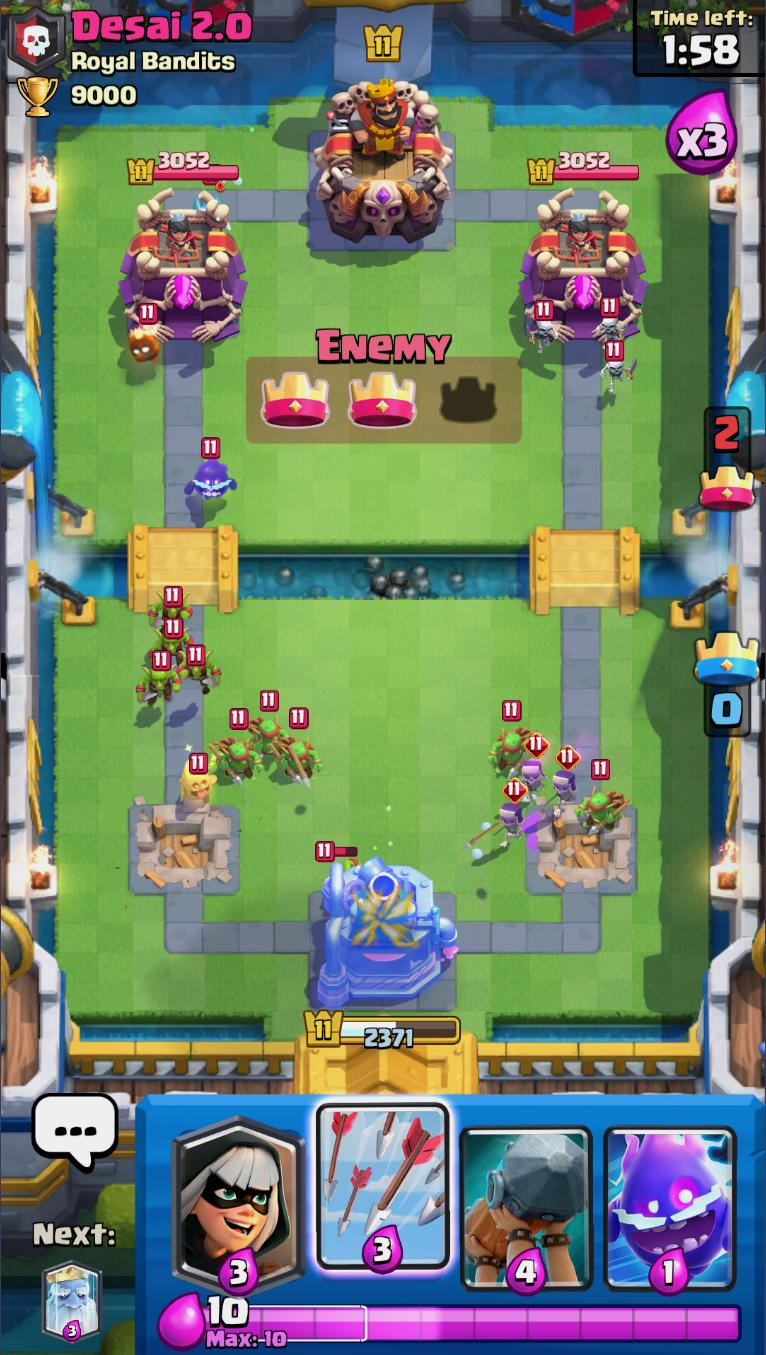ArrowDeck: (309, 1095, 458, 1296)
BanditDeck: (166, 1092, 313, 1295)
BattleRamDeck: (454, 1098, 600, 1294)
ElectroSpirit: (186, 438, 238, 504)
ElectroSpiritDeck: (595, 1095, 743, 1293)
Elixir: (202, 1296, 742, 1349)
EnemyTower: (122, 187, 250, 347), (520, 186, 648, 346)
EvoSkeleton: (549, 745, 583, 817), (499, 775, 530, 849), (521, 732, 551, 801)
FireSpirit: (125, 306, 162, 365)
Goblin: (138, 652, 183, 707), (177, 644, 221, 698), (149, 588, 192, 635), (151, 617, 194, 659)
HealSpirit: (177, 753, 217, 809)
KingTower: (315, 81, 455, 246)
MyKingHP: (301, 1007, 463, 1052)
MyKingTower: (302, 860, 461, 1009)
MyPrincessTowerBrocken: (522, 800, 643, 899), (124, 799, 242, 898)
PrincessTower: (153, 213, 205, 265), (557, 212, 605, 263)
RoyaleGhostNext: (41, 1260, 103, 1344)
Skeleton: (524, 299, 560, 356), (596, 297, 625, 348), (602, 344, 630, 395)
SpearGoblin: (514, 758, 571, 831), (577, 760, 630, 837), (491, 705, 544, 781), (214, 708, 259, 781), (279, 707, 319, 787), (246, 690, 289, 758)
TowerPrincessHP: (524, 151, 641, 187), (128, 153, 242, 187)
